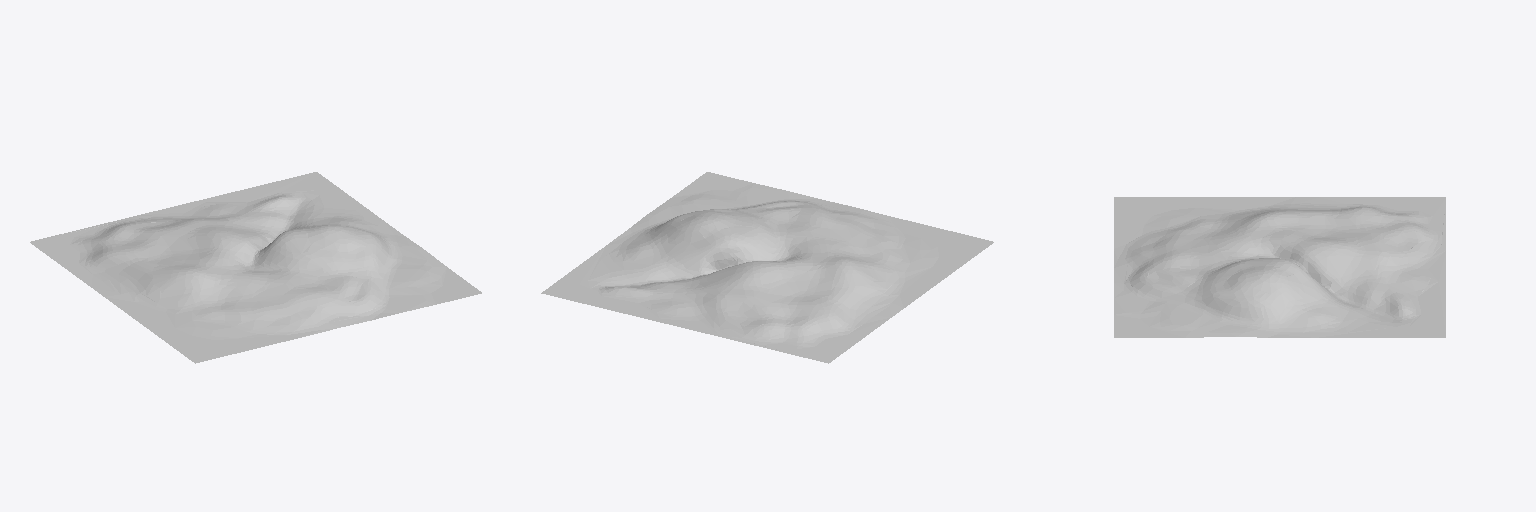
Rendered from terrain.obj.
The picture shows the model from 3 angles: view 1: azimuth 30°, elevation 25°; view 2: azimuth 150°, elevation 25°; view 3: azimuth 270°, elevation 25°; orthographic projection.
Parts seen in each view (by area): view 1: Plane; view 2: Plane; view 3: Plane.
Boxes of the visible parts, x1,y1,x2,y2 form: Plane: [30, 172, 481, 363]; Plane: [541, 172, 993, 363]; Plane: [1114, 197, 1445, 337].
Bounding box in the file's own units: 500 × 50.48 × 500.